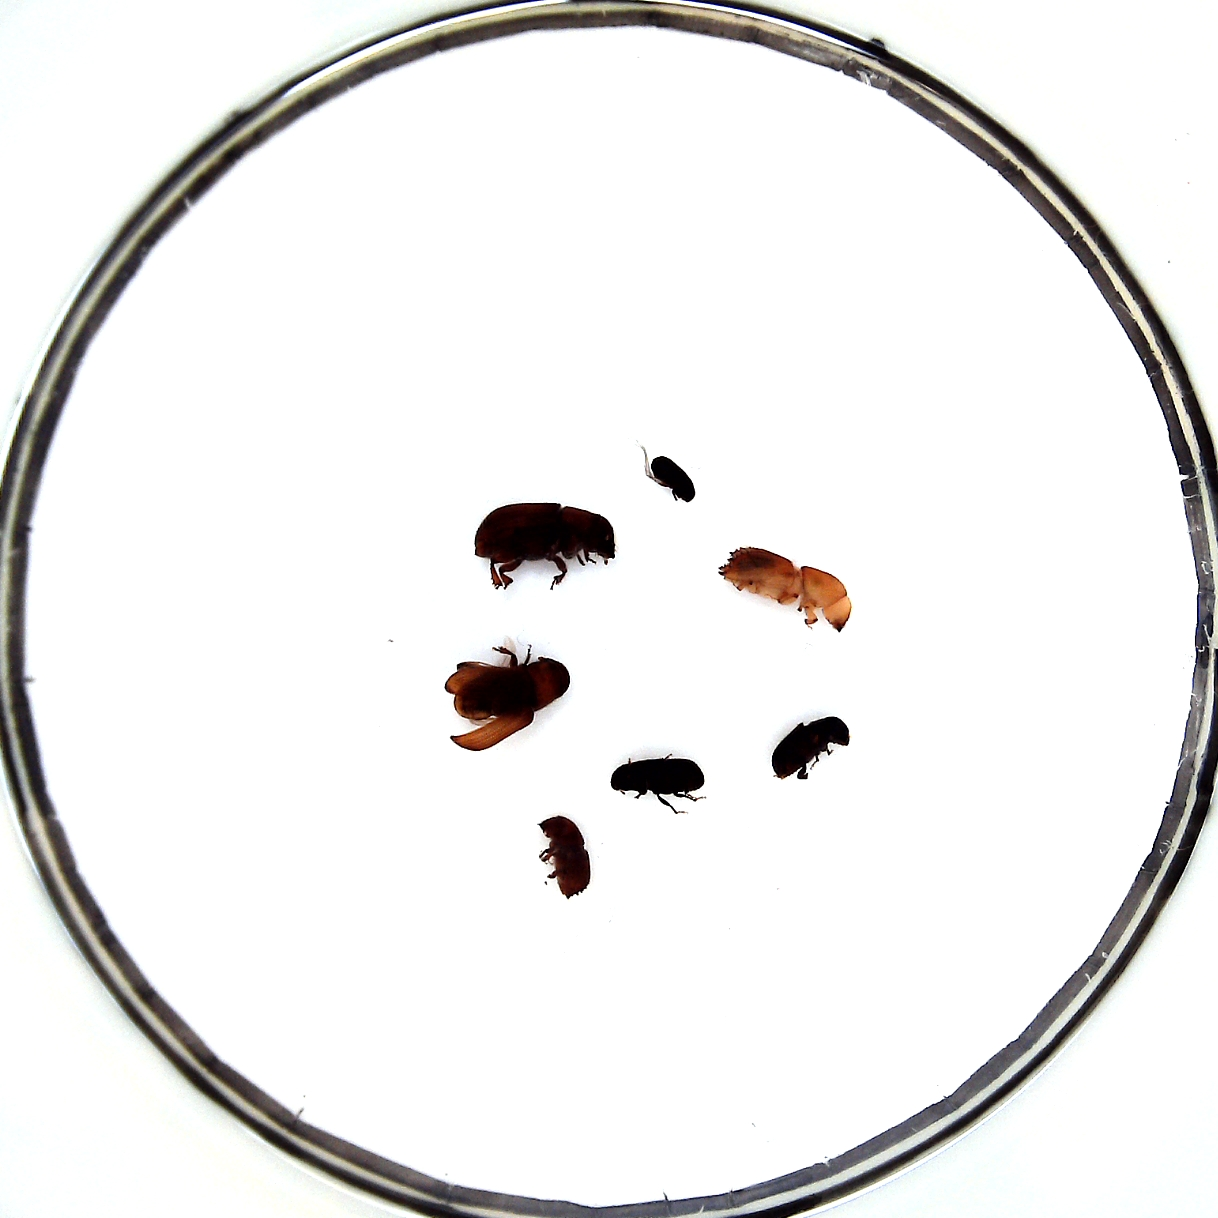Boerner: (718, 547, 852, 634)
Leconte: (445, 644, 571, 751), (474, 503, 616, 564)
armandi: (772, 717, 850, 779), (610, 758, 705, 794)
coleoptera: (651, 456, 696, 503)
linnaeus: (539, 814, 591, 898)
